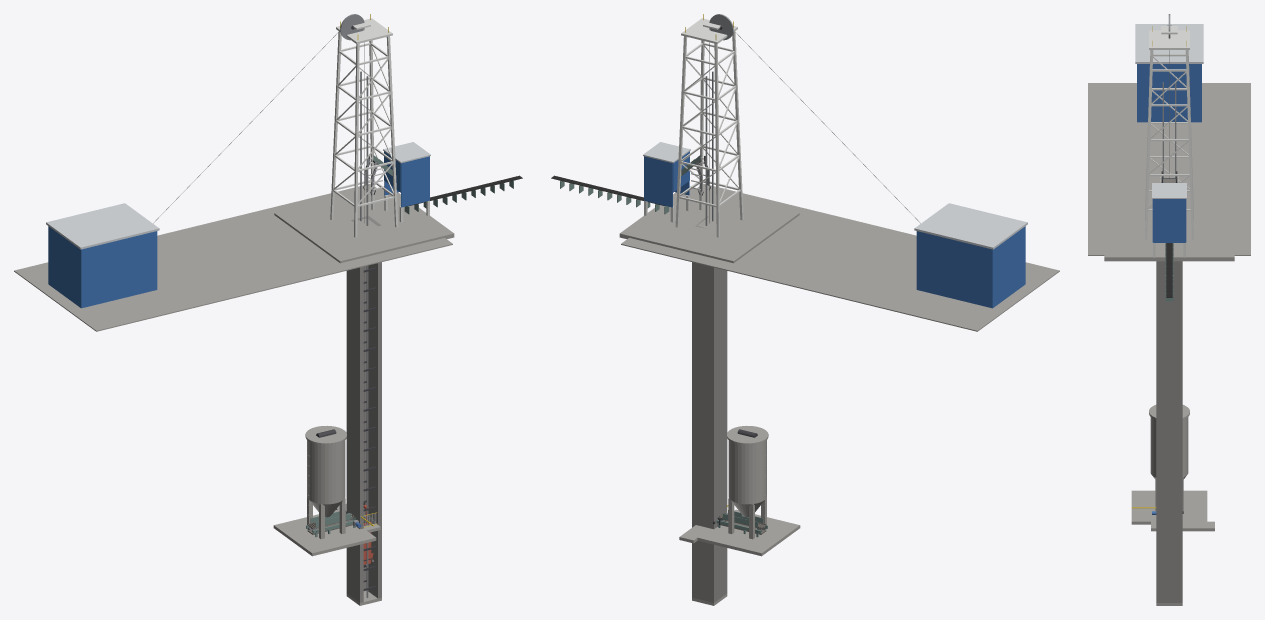
File: SK_System_Animated.glb
The picture shows the model from 3 angles, left to right: view 1: azimuth 30°, elevation 25°; view 2: azimuth 150°, elevation 25°; view 3: azimuth 270°, elevation 25°; orthographic projection.
Parts seen in each view (by area): view 1: SK_Headframe, SK_Shaft_Lining_Cutaway, SK_OreBin, SK_Shaft_Guides_Buntons, SK_Station_Floor; view 2: SK_Headframe, SK_Shaft_Lining_Cutaway, SK_OreBin, SK_Station_Floor, SK_Shaft_Guides_Buntons; view 3: SK_Headframe, SK_Shaft_Lining_Cutaway, SK_Station_Floor, SK_OreBin, SK_Shaft_Guides_Buntons.
Boxes of the visible parts, x1,y1,x2,y2 form: SK_Headframe: [14, 14, 522, 331]; SK_Shaft_Lining_Cutaway: [346, 216, 381, 602]; SK_OreBin: [305, 425, 346, 539]; SK_Shaft_Guides_Buntons: [346, 71, 381, 605]; SK_Station_Floor: [273, 503, 380, 556]; SK_Headframe: [551, 14, 1059, 331]; SK_Shaft_Lining_Cutaway: [692, 216, 727, 602]; SK_OreBin: [727, 425, 768, 539]; SK_Station_Floor: [679, 509, 800, 556]; SK_Shaft_Guides_Buntons: [692, 71, 727, 605]; SK_Headframe: [1088, 24, 1250, 301]; SK_Shaft_Lining_Cutaway: [1156, 261, 1182, 602]; SK_Station_Floor: [1131, 490, 1214, 531]; SK_OreBin: [1149, 405, 1189, 511]; SK_Shaft_Guides_Buntons: [1156, 82, 1182, 605].
Size of the model in its own units: 98 by 118 by 30.
